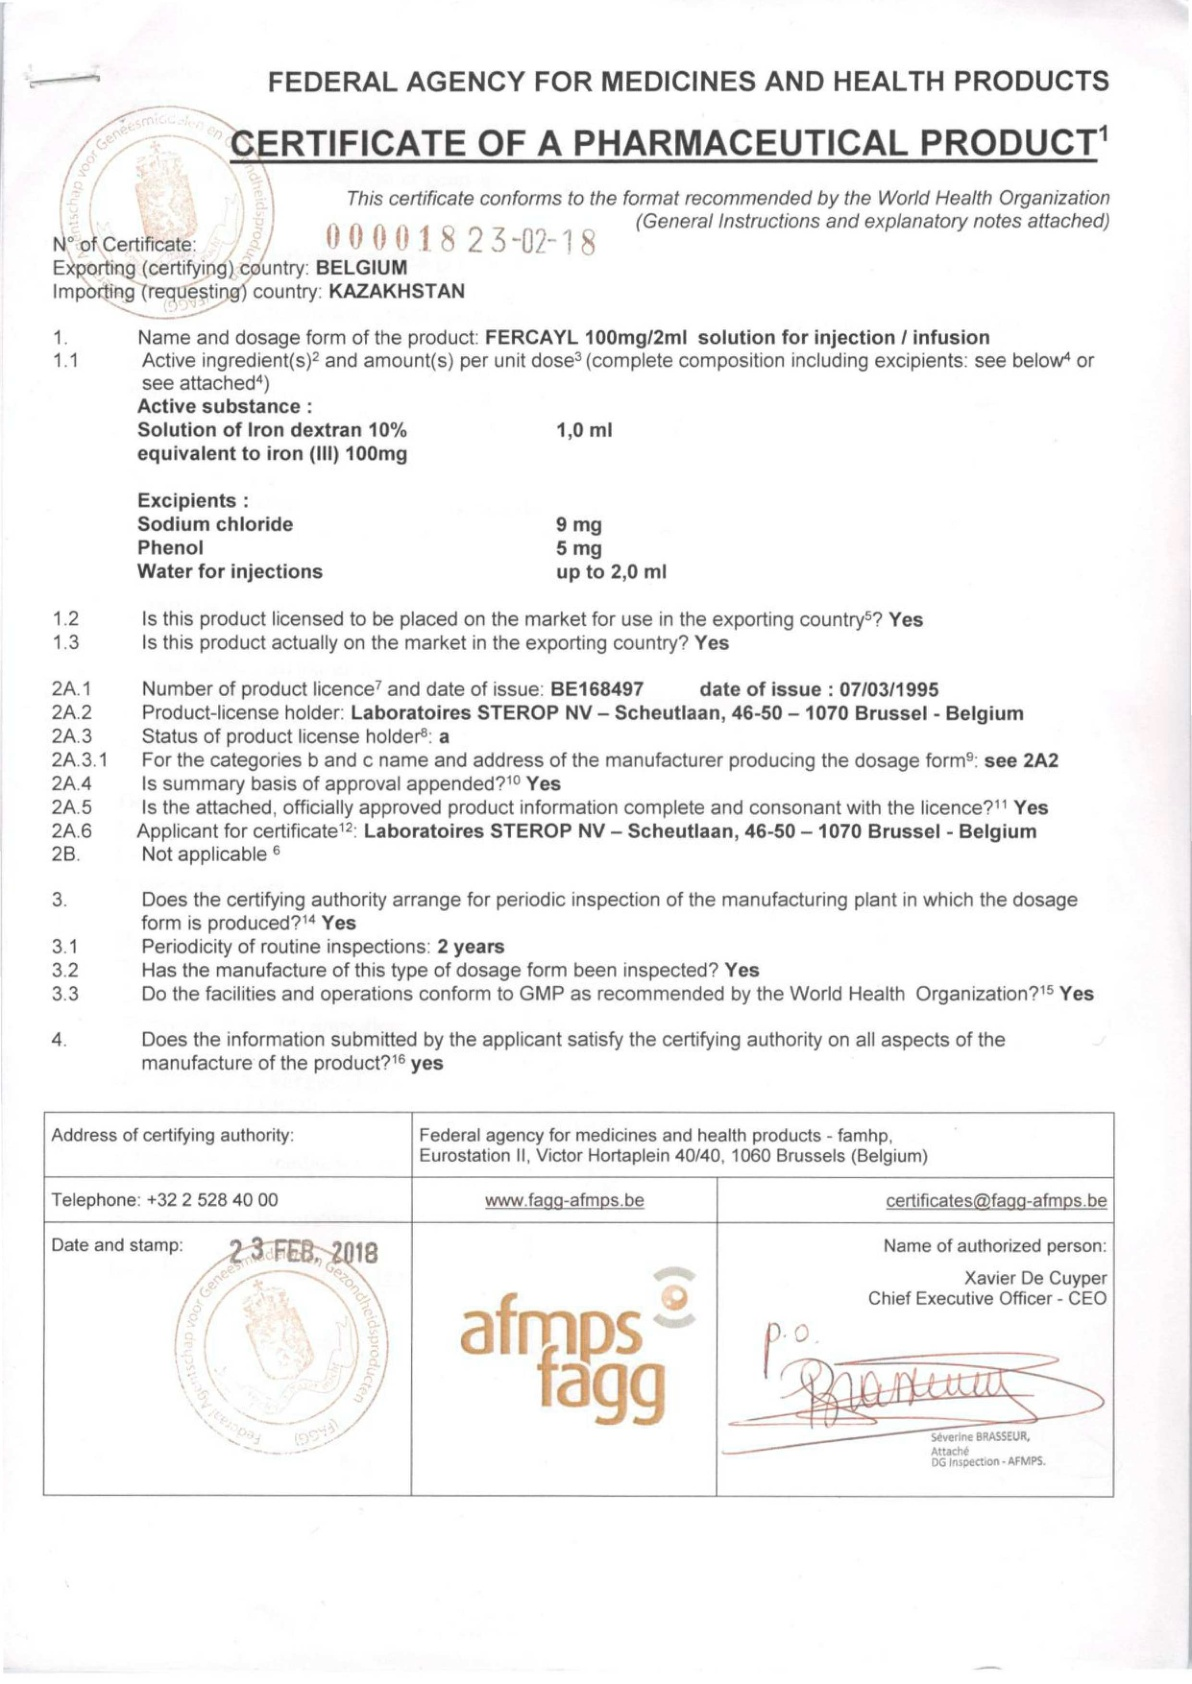merged_cells: (43, 1110, 1116, 1500)
nolines: (134, 396, 670, 583)
